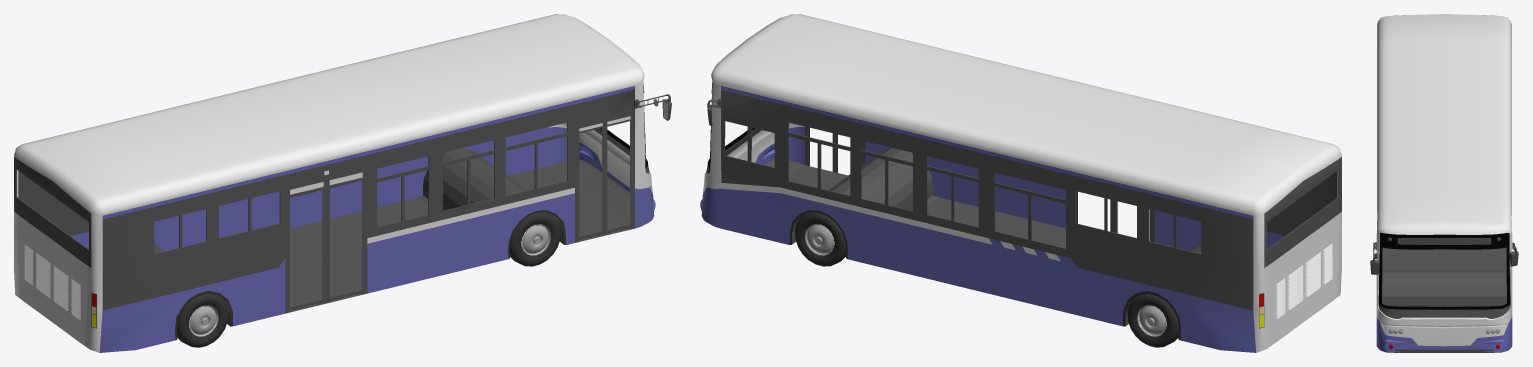
File: gongjiaoche001.fbx
3 renders of one model, left to right at view 1: azimuth 30°, elevation 25°; view 2: azimuth 150°, elevation 25°; view 3: azimuth 270°, elevation 25°, orthographic. The views are drawn at different scales.
Visible parts, largest first — view 1: gongjiaoche001; view 2: gongjiaoche001; view 3: gongjiaoche001.
Boxes of the visible parts, x1=… form: gongjiaoche001: x1=14, y1=14, x2=671, y2=352; gongjiaoche001: x1=700, y1=14, x2=1341, y2=352; gongjiaoche001: x1=1370, y1=14, x2=1518, y2=352.
Size of the model in its own units: 10.92 by 3.15 by 3.08.
Materials: 1 (1 with a texture image).
